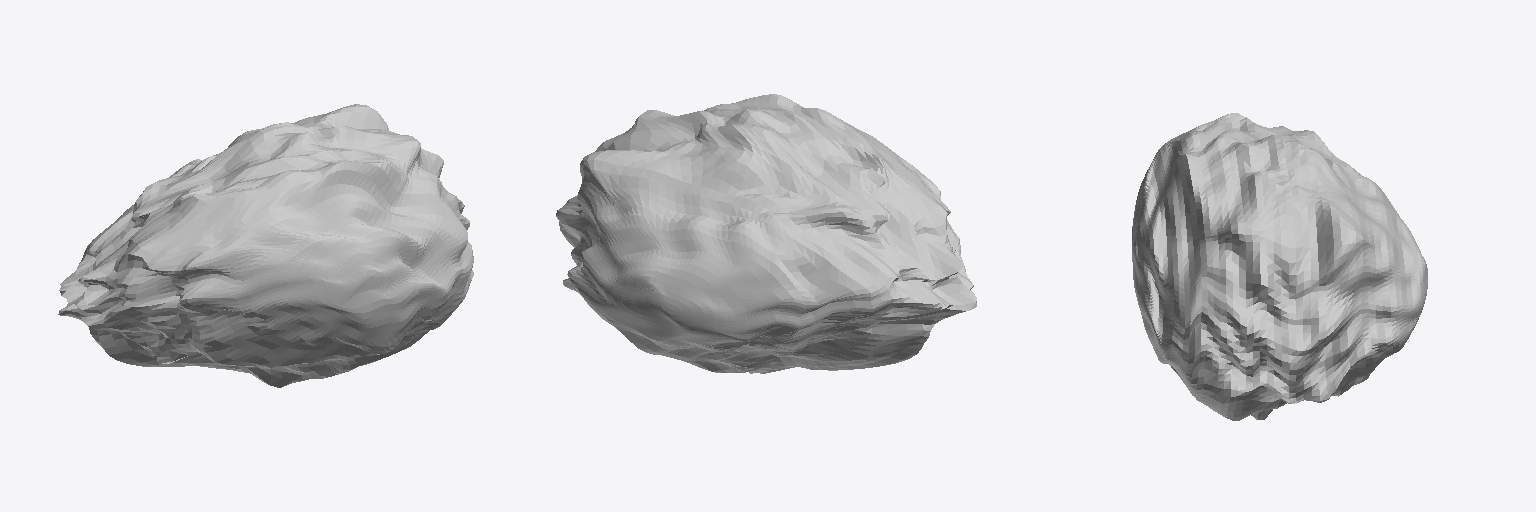
Rendered from asteroid.obj.
3 views of the same model, side by side, from view 1: azimuth 30°, elevation 25°; view 2: azimuth 150°, elevation 25°; view 3: azimuth 270°, elevation 25° (orthographic).
Visible parts, largest first — view 1: asteroid1; view 2: asteroid1; view 3: asteroid1.
Part boxes in pixels (left/top/right/bottom): asteroid1: left=58, top=104, right=473, bottom=387; asteroid1: left=556, top=94, right=976, bottom=373; asteroid1: left=1132, top=113, right=1427, bottom=420.
Size of the model in its own units: 39.05 by 23.17 by 24.69.